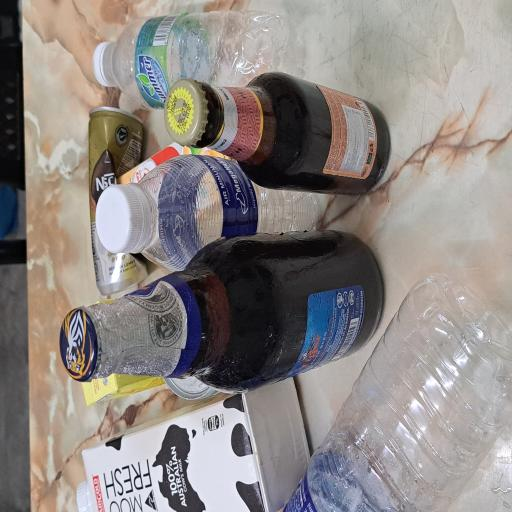can: (162, 117, 306, 193)
drink carton: (0, 111, 106, 408), (78, 106, 146, 216)
glass bottle: (83, 119, 211, 511), (240, 216, 329, 512)
plastic bottle: (0, 359, 177, 512), (180, 190, 264, 419), (303, 154, 379, 388)
plastic bottle cap: (193, 124, 241, 200), (316, 119, 354, 147), (1, 100, 22, 126)
